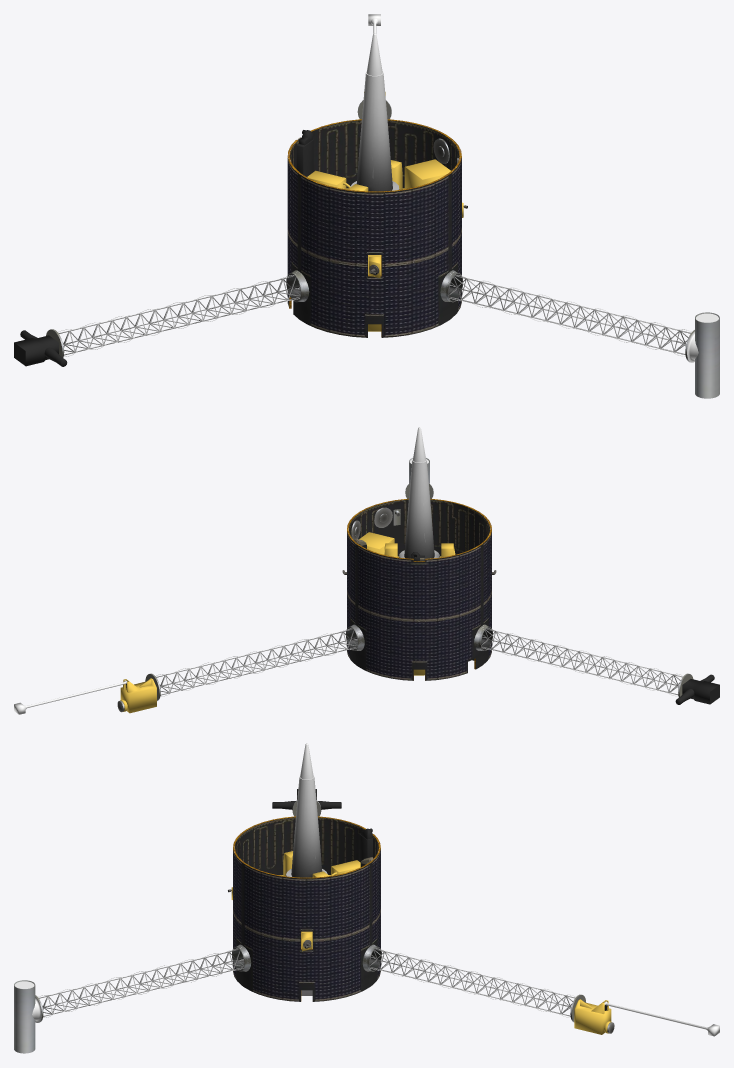
The model's file is lunar_prospector.gltf.
3 renders of one model, top to bottom at view 1: azimuth 30°, elevation 25°; view 2: azimuth 150°, elevation 25°; view 3: azimuth 270°, elevation 25°, orthographic. The views are drawn at different scales.
Parts seen in each view (by area): view 1: shiny_panel, AO, tex_01, foil_gold, krinkle, foil_silver; view 2: shiny_panel, AO, tex_01, foil_gold, foil_silver, krinkle; view 3: shiny_panel, AO, tex_01, foil_gold, foil_silver, krinkle.
Part boxes in pixels (bbox=[...]): shiny_panel: bbox=[287, 157, 461, 337]; AO: bbox=[58, 33, 690, 355]; tex_01: bbox=[46, 100, 719, 398]; foil_gold: bbox=[307, 92, 463, 331]; krinkle: bbox=[14, 130, 313, 366]; foil_silver: bbox=[58, 14, 718, 362]; shiny_panel: bbox=[347, 531, 491, 680]; AO: bbox=[156, 427, 682, 695]; tex_01: bbox=[117, 458, 693, 712]; foil_gold: bbox=[120, 532, 455, 713]; foil_silver: bbox=[14, 459, 683, 714]; krinkle: bbox=[411, 552, 719, 704]; shiny_panel: bbox=[233, 848, 380, 1001]; AO: bbox=[39, 743, 574, 1016]; tex_01: bbox=[14, 800, 614, 1053]; foil_gold: bbox=[231, 851, 611, 1034]; foil_silver: bbox=[15, 948, 719, 1036]; krinkle: bbox=[272, 789, 372, 862].
Size of the model in its own units: 5.58 by 2.47 by 6.69.
Materials: 6 (3 with a texture image).
